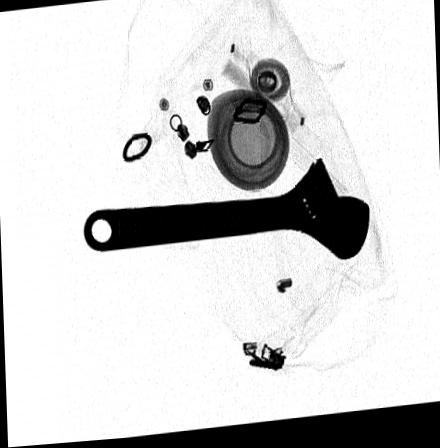Wrench: (81, 161, 370, 266)
